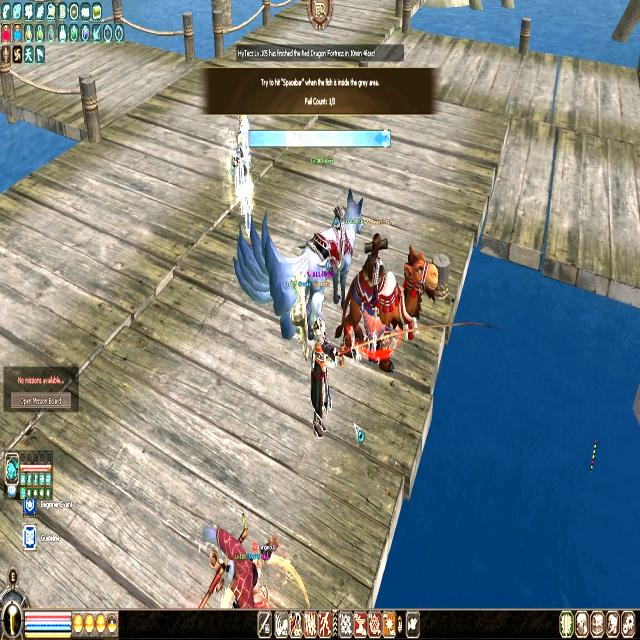fishes: (373, 130, 386, 148)
